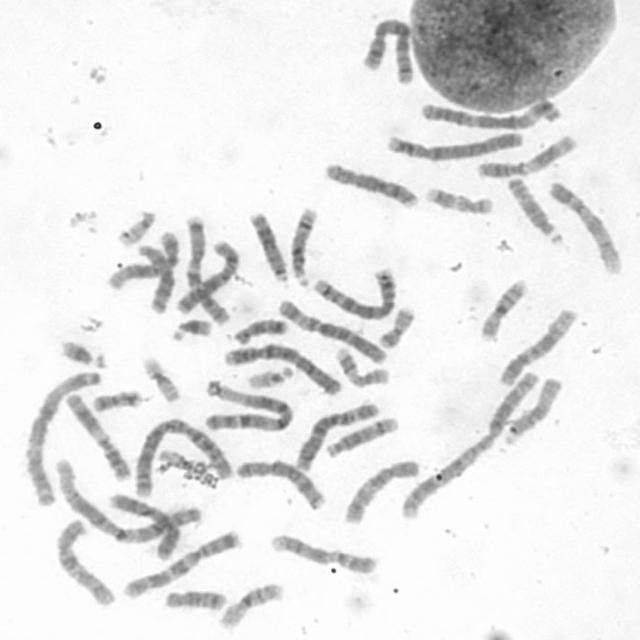A1: (52, 454, 205, 548), (200, 377, 295, 434)
A2: (396, 365, 542, 523), (129, 414, 234, 499)
A3: (20, 367, 103, 509), (417, 95, 561, 131)
B4: (221, 340, 343, 398), (379, 127, 527, 162)
B5: (309, 264, 398, 321), (359, 15, 417, 86)
C10: (52, 516, 117, 608), (340, 456, 421, 526)
C11: (62, 389, 132, 483), (472, 131, 578, 179)
C12: (495, 304, 577, 386), (104, 228, 182, 291)
C6: (275, 296, 389, 365), (291, 399, 381, 471)
C7: (119, 527, 244, 600), (182, 213, 233, 328)
C8: (232, 456, 328, 512), (320, 159, 421, 210)
C9: (546, 177, 624, 275), (268, 531, 376, 576)
D13: (246, 208, 290, 284), (134, 239, 176, 315)
D14: (322, 414, 400, 460), (287, 204, 319, 288)
D15: (500, 374, 564, 445), (504, 174, 563, 246)
E16: (214, 580, 285, 632), (476, 276, 530, 342)
E17: (332, 344, 392, 387), (423, 184, 497, 216)
E18: (160, 586, 228, 613), (230, 316, 290, 346)
F19: (139, 352, 183, 406), (157, 447, 207, 475)
F20: (374, 304, 416, 350), (90, 386, 144, 414)
G21: (57, 336, 109, 369), (168, 315, 214, 343)
G22: (113, 208, 158, 248), (244, 362, 296, 390)
X: (171, 237, 241, 316), (108, 490, 183, 563)
